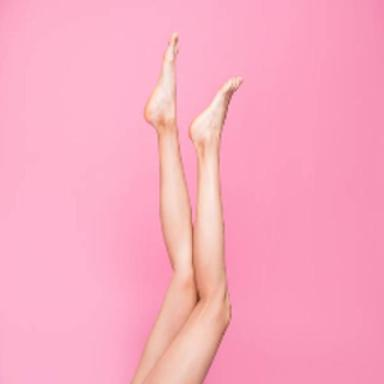normal skin: (131, 34, 242, 384)
